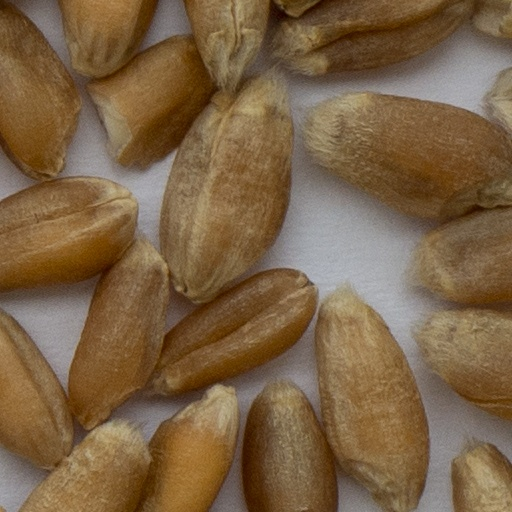Peel-poly: (475, 0, 511, 37)
Wheat-grain-damaged-poly: (87, 32, 214, 171)
